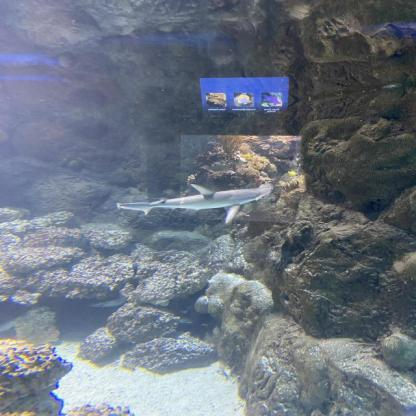shark: (116, 183, 275, 223)
